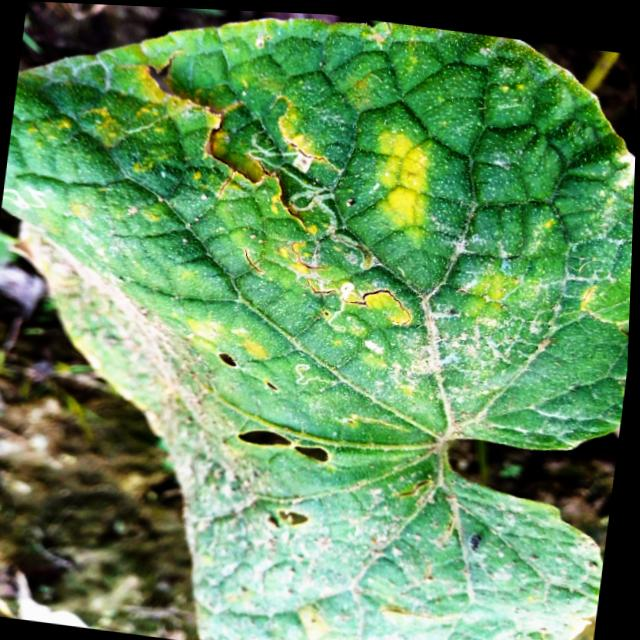Downy-Mildew: (7, 21, 636, 502)
